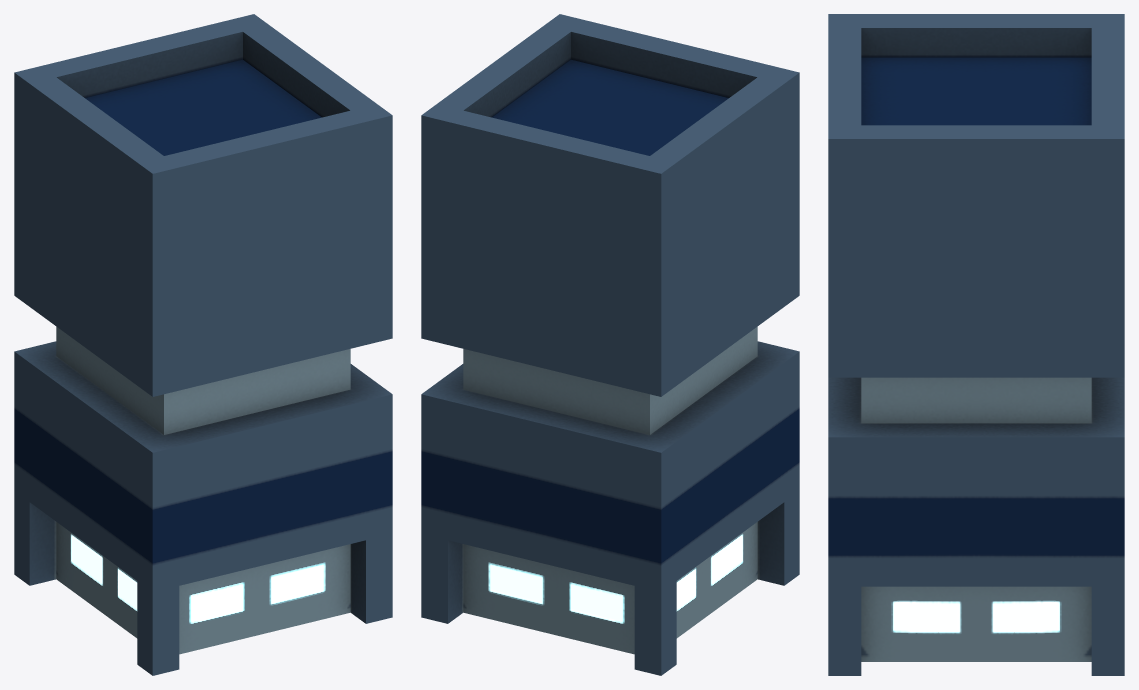
The model's file is col_A.FBX.
3 renders of one model, left to right at view 1: azimuth 30°, elevation 25°; view 2: azimuth 150°, elevation 25°; view 3: azimuth 270°, elevation 25°, orthographic. The views are drawn at different scales.
Visible parts, largest first — view 1: col_A; view 2: col_A; view 3: col_A.
Part boxes in pixels (x1=…): col_A: x1=14, y1=14, x2=392, y2=675; col_A: x1=421, y1=14, x2=799, y2=675; col_A: x1=828, y1=14, x2=1124, y2=675.
Bounding box in the file's own units: 9 × 9 × 18.
